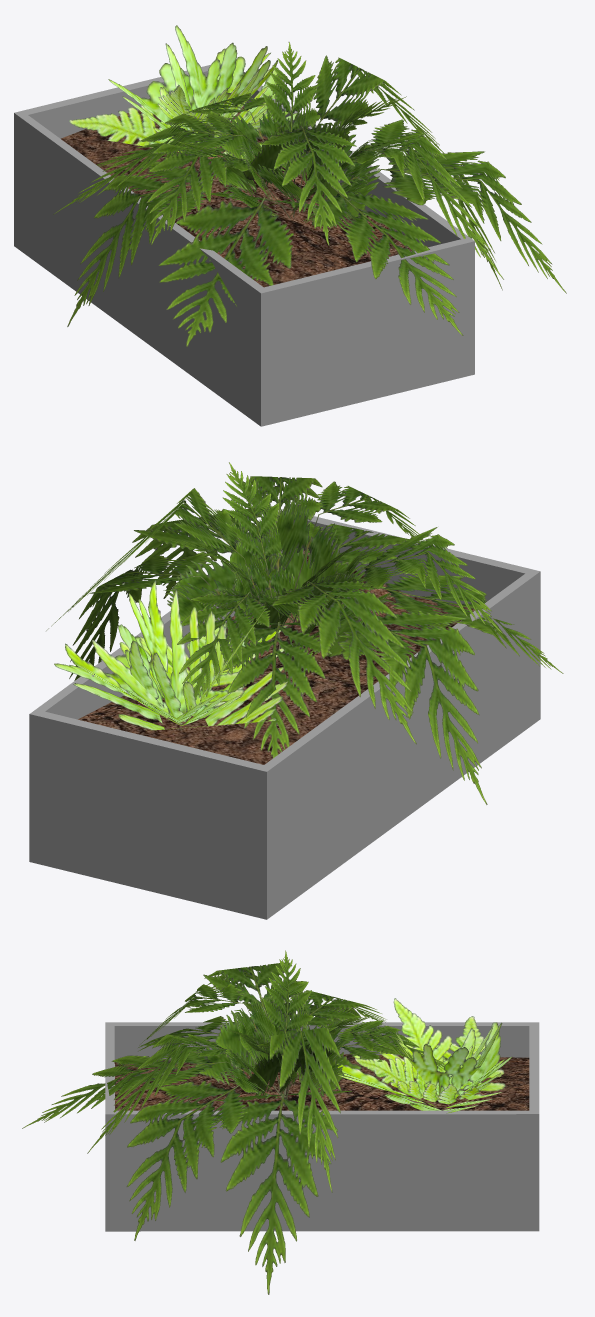
The model's file is Model_Plant_Potted_Small_02.fbx.
3 views of the same model, one above another, from view 1: azimuth 30°, elevation 25°; view 2: azimuth 150°, elevation 25°; view 3: azimuth 270°, elevation 25° (orthographic). The views are drawn at different scales.
Visible parts, largest first — view 1: Plant_Potted_Small_02; view 2: Plant_Potted_Small_02; view 3: Plant_Potted_Small_02.
Part boxes in pixels (x1,y1,x2,y2): Plant_Potted_Small_02: (14,25,566,426); Plant_Potted_Small_02: (29,462,563,919); Plant_Potted_Small_02: (22,950,539,1294).
Size of the model in its own units: 216 by 115 by 261.
